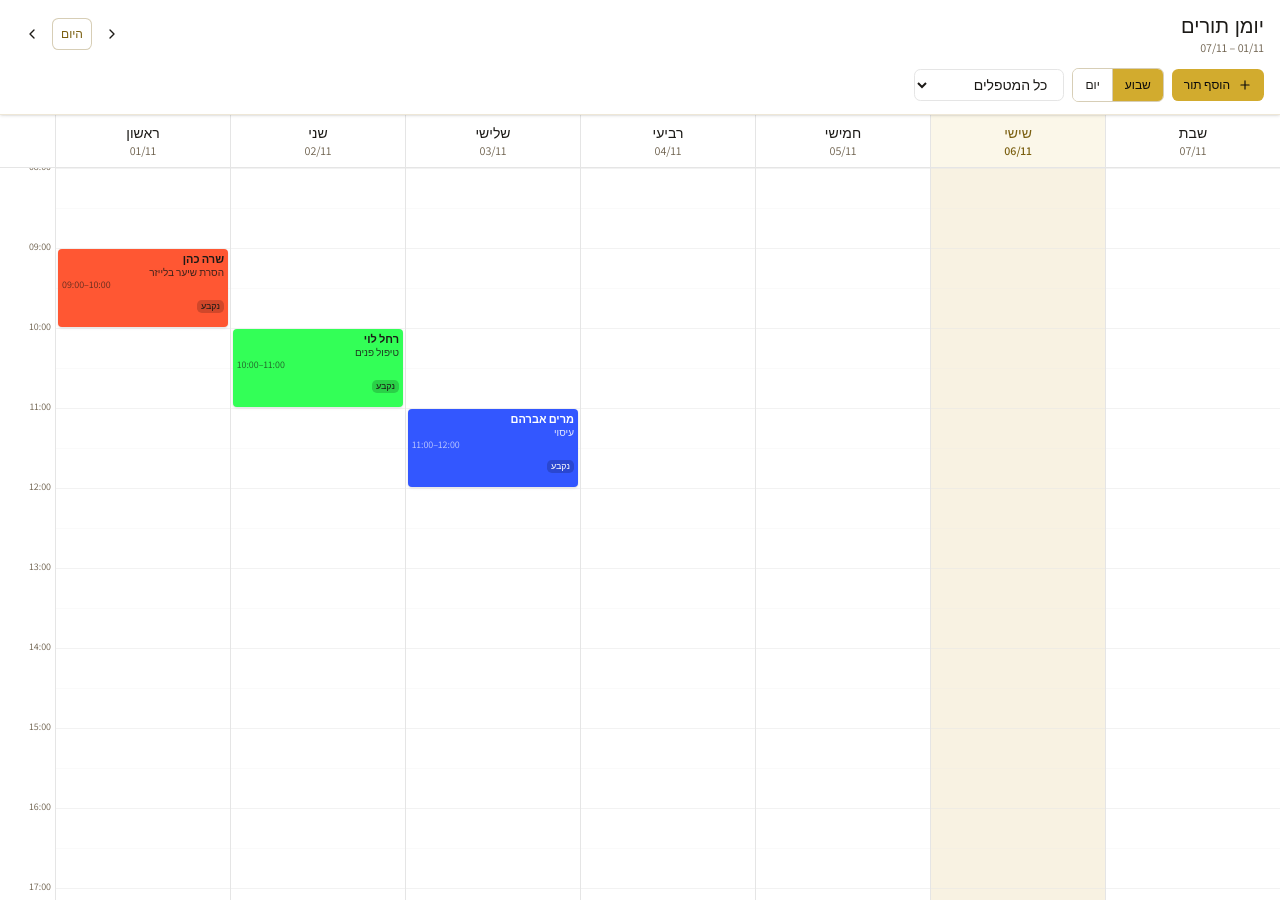
Test case: WeeklyCalendar › לאחר סינון לפי מטפלת א, רק שרה כהן מוצגת ורחל לוי / מרים אברהם לא
The width and height of the screenshot is (1280, 900).
Note: פתיחת סינון לפי מטפל/ת
Select "מטפלת א" in the dropdown named "סינון לפי מטפל/ת": [989, 85] box [914,69,1064,101]
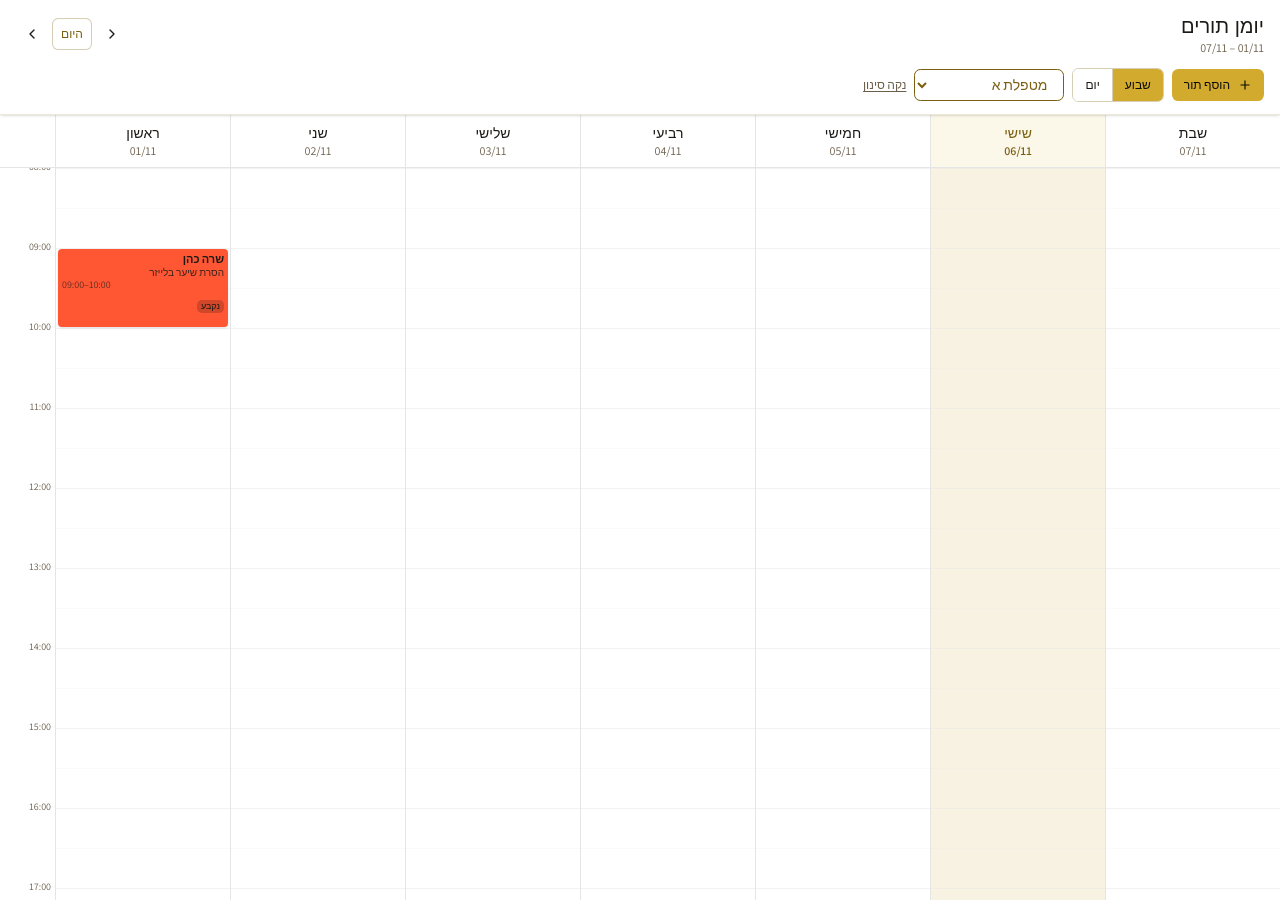
Now the text "רחל לוי" is gone
Now the text "מרים אברהם" is gone
